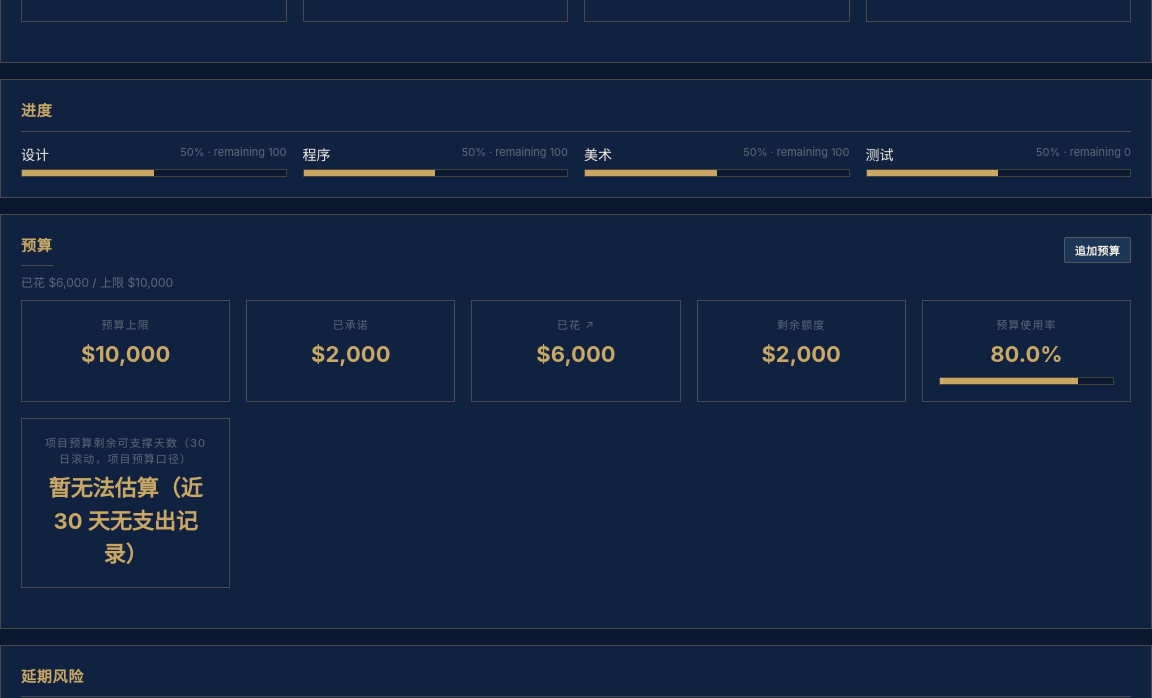
Test: TASK-M1.1-G05-001-E 预算 UI 冒烟 › 已花点击下钻成本分摊明细
The image size is (1152, 698).
(page scrolled)
expect the text "成本分摊明细" is not shown: met
Click the element titled "成本分摊明细".
click(576, 351)  # box [471,300,681,402]
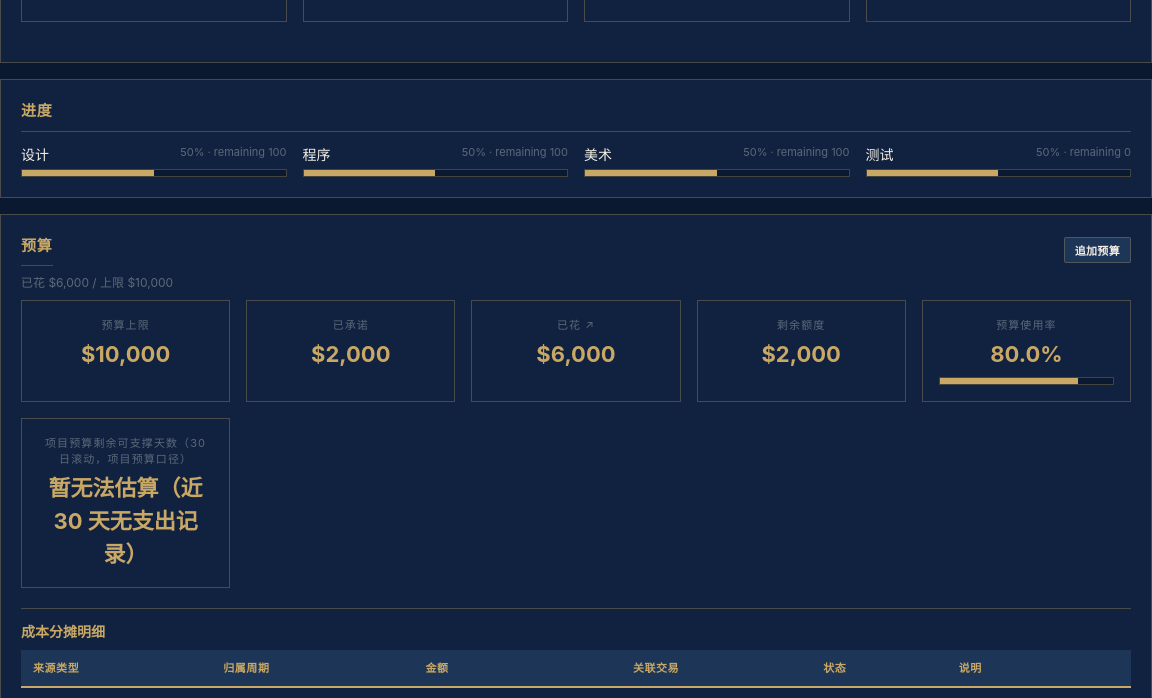
expect the heading "成本分摊明细" is shown: met, box [21,622,105,640]
